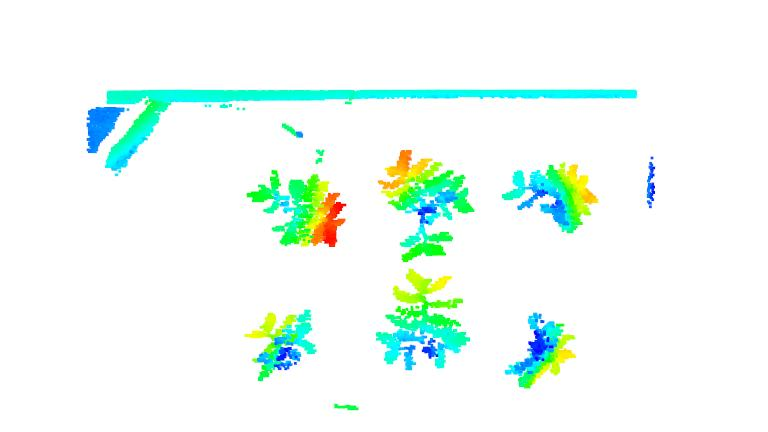chickpea: (375, 150, 477, 259), (369, 266, 470, 372), (244, 166, 347, 253), (502, 161, 597, 236), (501, 311, 581, 388), (241, 307, 320, 384)
